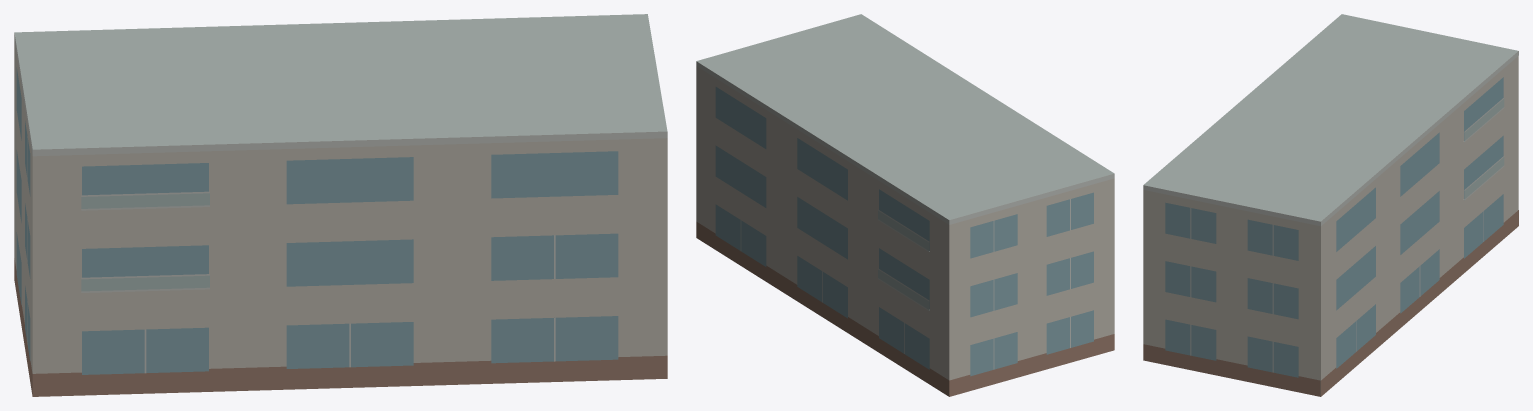
Rendered from survey-upis-33017804.glb.
3 views of the same model, side by side, from view 1: azimuth 30°, elevation 25°; view 2: azimuth 150°, elevation 25°; view 3: azimuth 270°, elevation 25° (orthographic). The views are drawn at different scales.
Visible parts, largest first — view 1: survey-upis-33017804.tmp; view 2: survey-upis-33017804.tmp; view 3: survey-upis-33017804.tmp.
Part boxes in pixels (x1,y1,x2,y2): survey-upis-33017804.tmp: (14, 14, 667, 396); survey-upis-33017804.tmp: (696, 14, 1114, 396); survey-upis-33017804.tmp: (1143, 14, 1518, 396).
Bounding box in the file's own units: 23.26 × 9.15 × 17.78.
